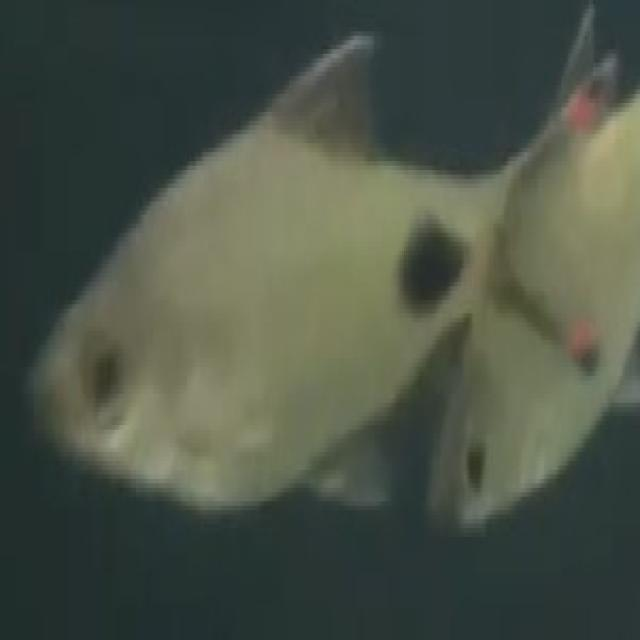Black-Spotted-Barb: (0, 49, 625, 432)
